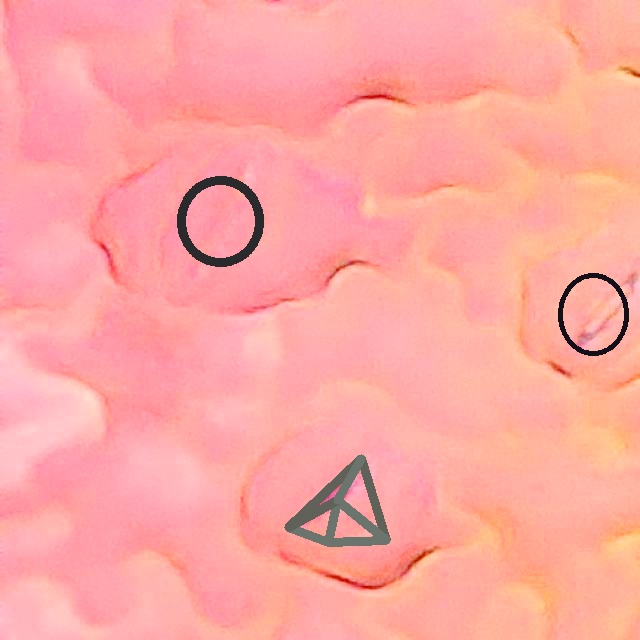open: (284, 455, 390, 546), (177, 176, 264, 266), (557, 272, 629, 356)
